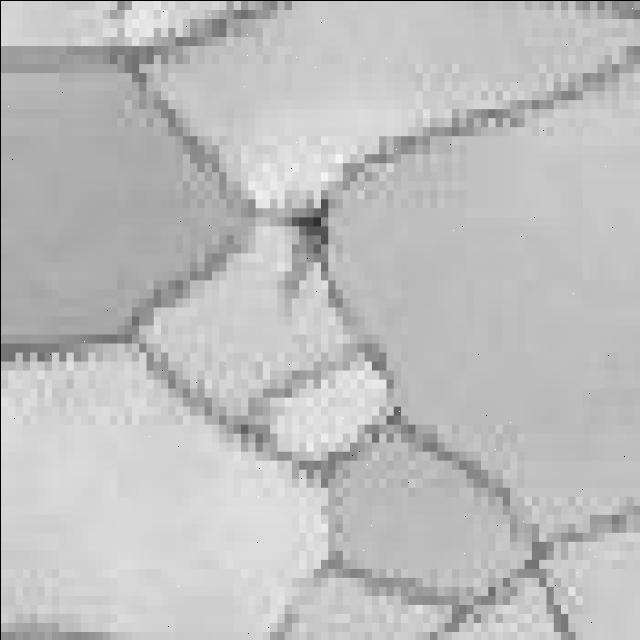good_void: (279, 188, 341, 307)
